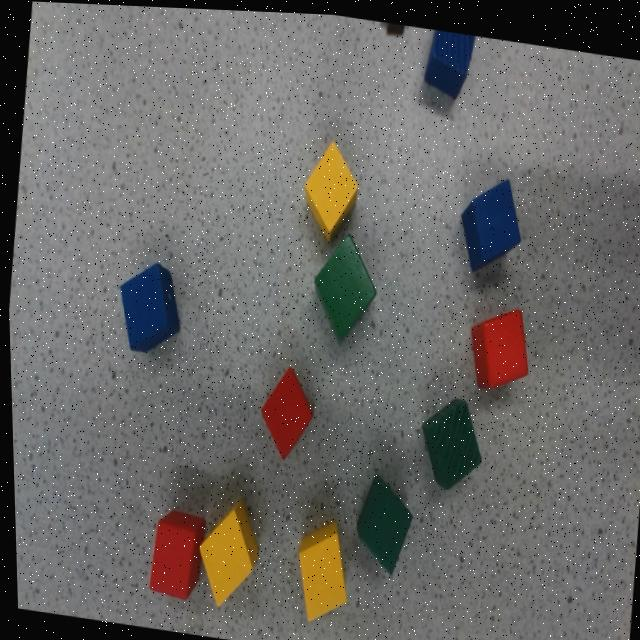blue_cube: (455, 175, 523, 267), (115, 261, 181, 353), (421, 22, 476, 96)
green_cube: (298, 232, 387, 339), (340, 472, 419, 571), (413, 392, 484, 487)
red_cube: (242, 364, 326, 457), (145, 509, 203, 599), (467, 305, 527, 385)
yellow_cube: (185, 497, 267, 604), (286, 139, 372, 237), (291, 521, 345, 617)
